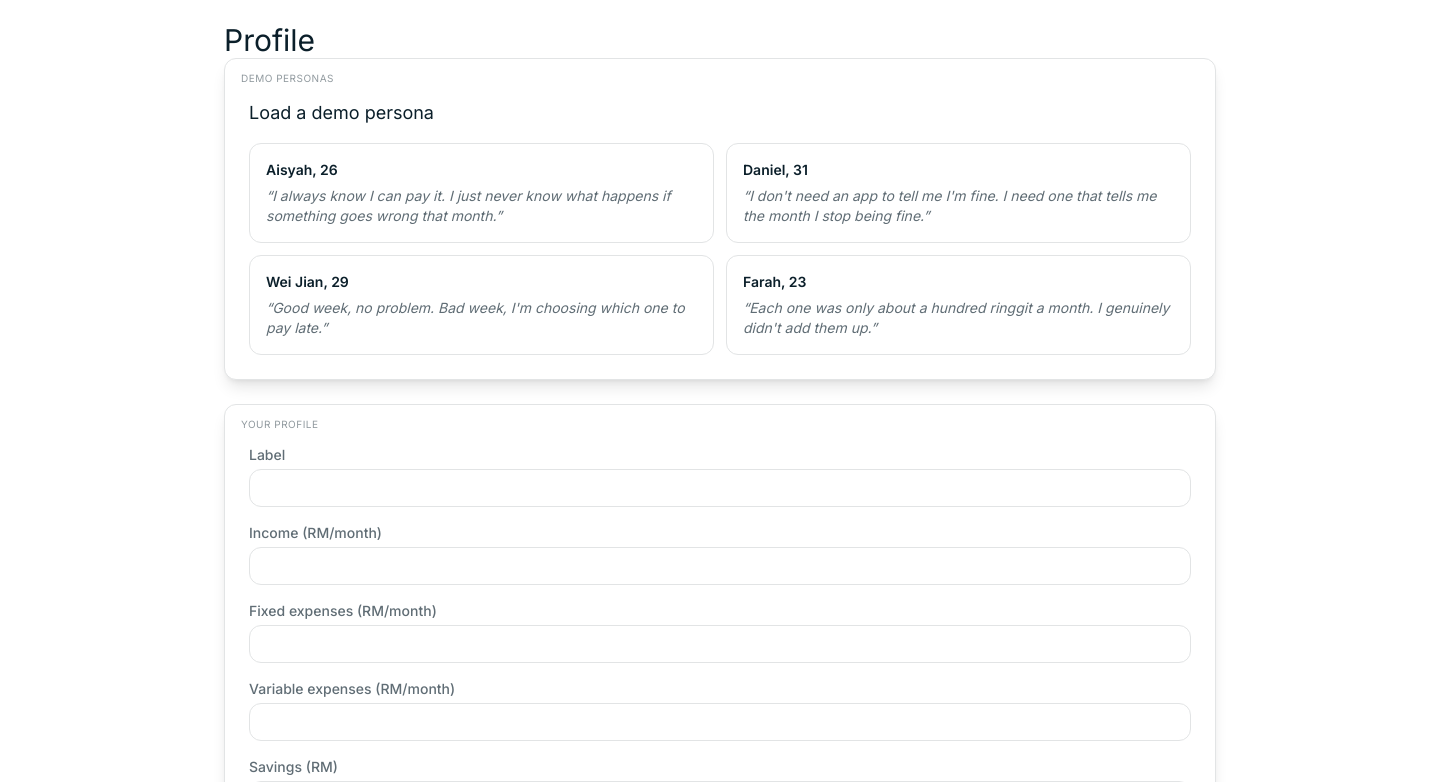
Test: ProfilePage › shows an error instead of crashing when saving fails
Type "4500" into the number field labelled "Income (RM/month)".
click(720, 566); type("4500")  # box [249,547,1191,585]
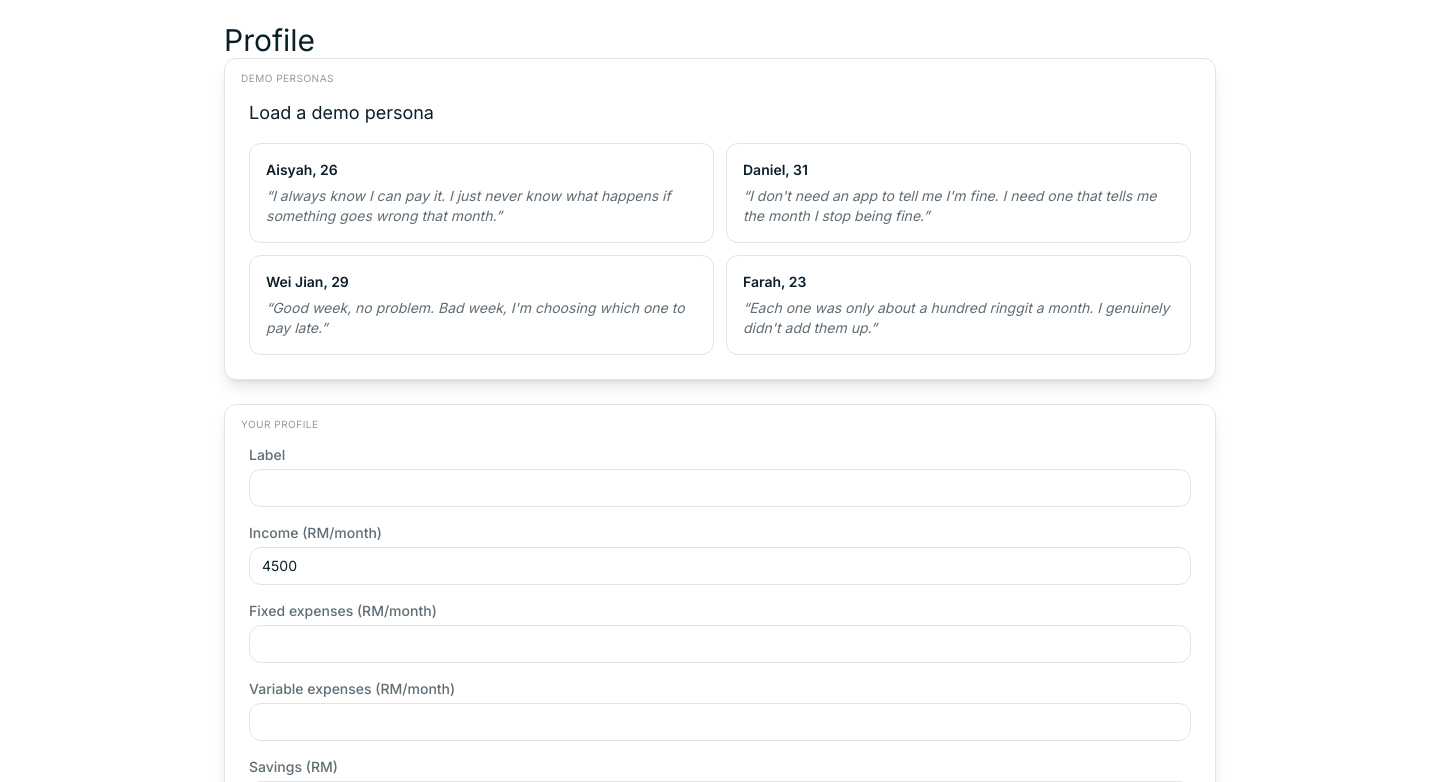
Type "1984" into the number field labelled "Fixed expenses (RM/month)".
click(720, 644); type("1984")  # box [249,625,1191,663]
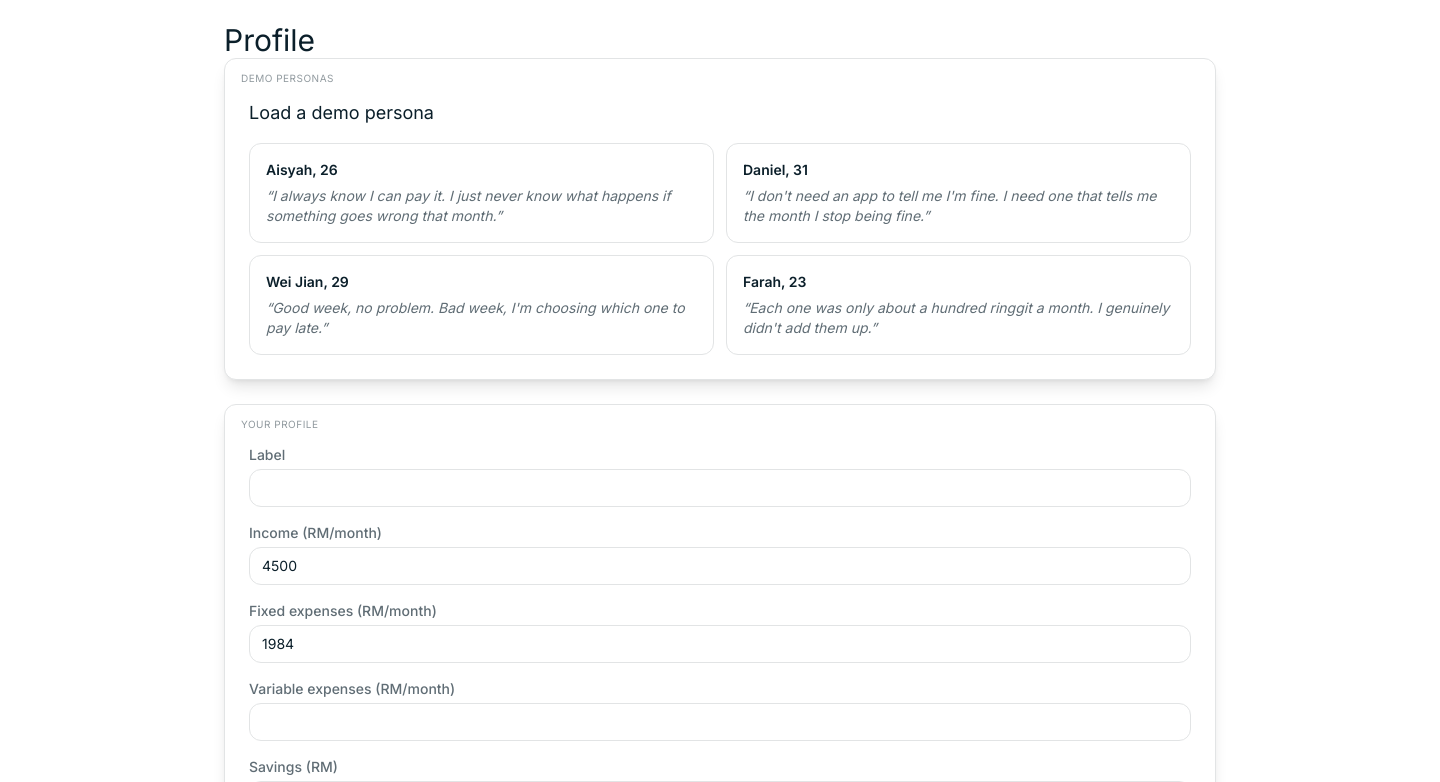
Type "1216" into the number field labelled "Variable expenses (RM/month)".
click(720, 722); type("1216")  # box [249,703,1191,741]
(page scrolled)
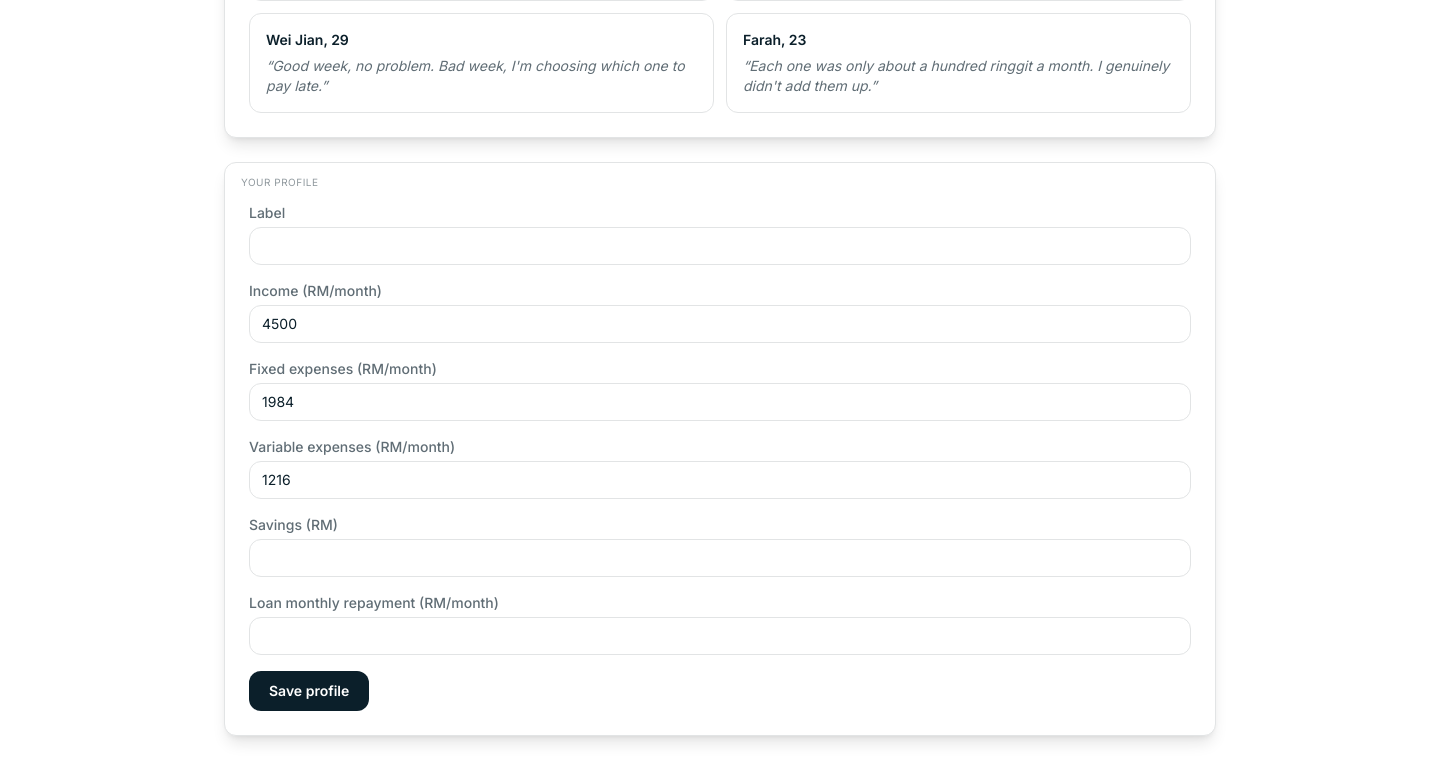
Type "2250" into the number field labelled "Savings (RM)".
click(720, 558); type("2250")  # box [249,539,1191,577]
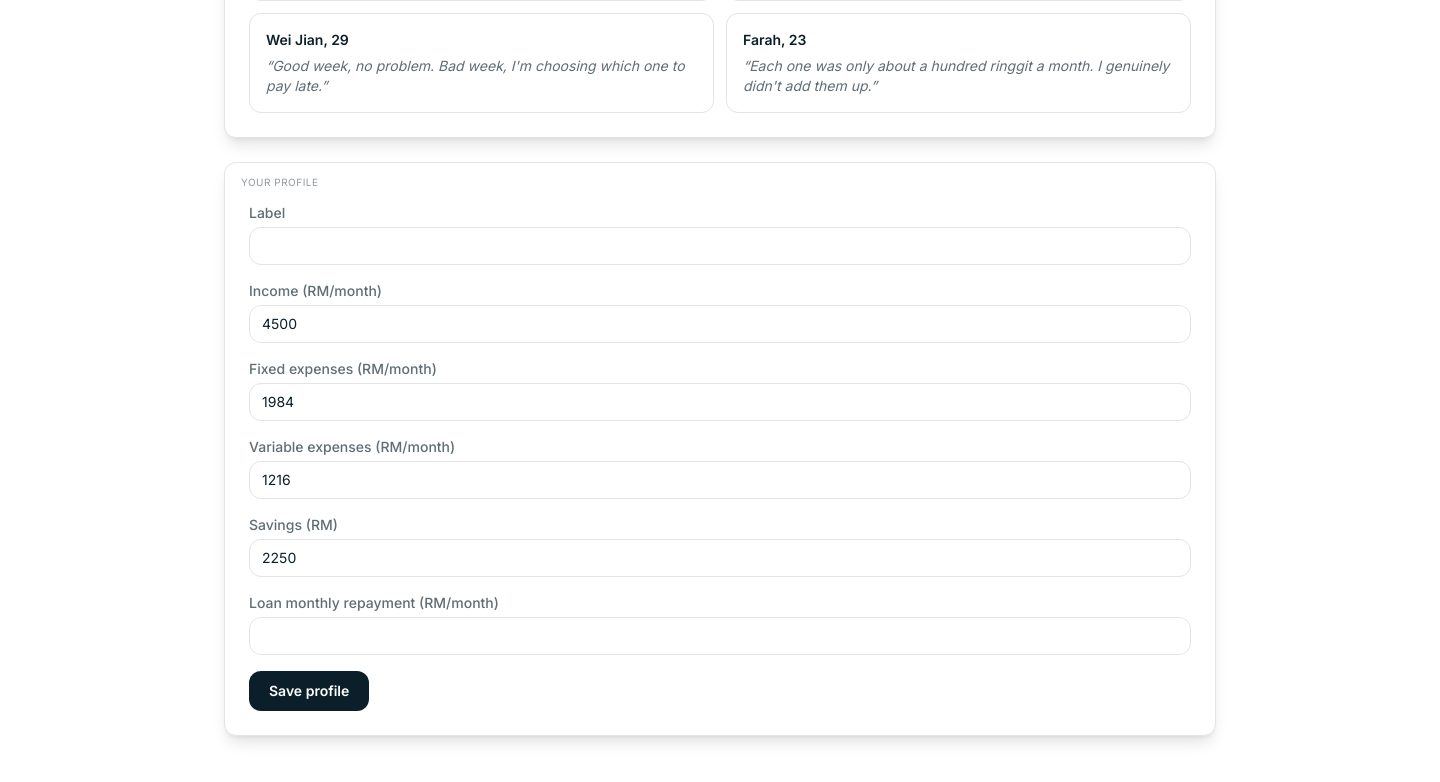
Type "100" into the number field labelled "Loan monthly repayment (RM/month)".
click(720, 636); type("100")  # box [249,617,1191,655]
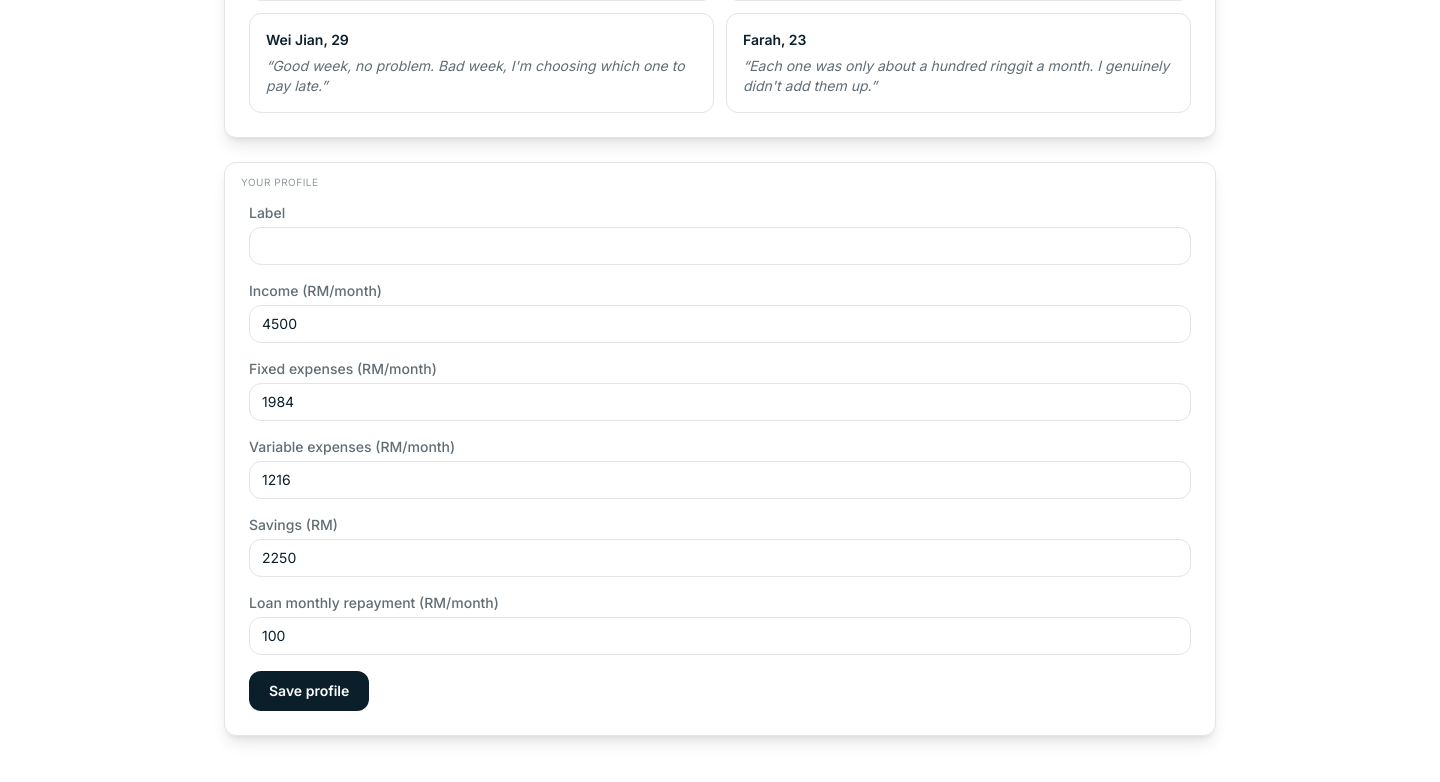
Click the button "Save profile".
click(309, 691)  # box [249,671,369,711]
(page scrolled)
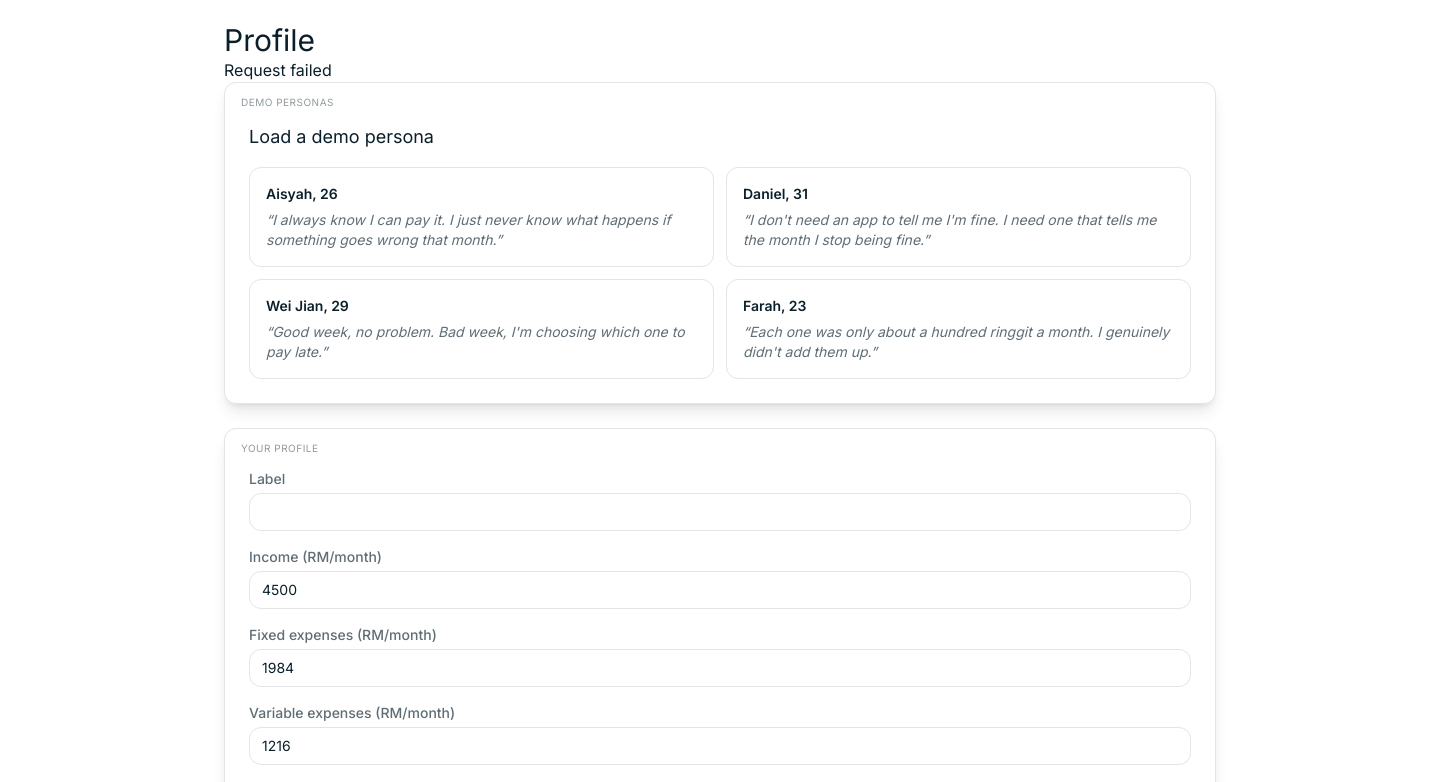
Expected: the message reads "Request failed", [224,60,332,80]
